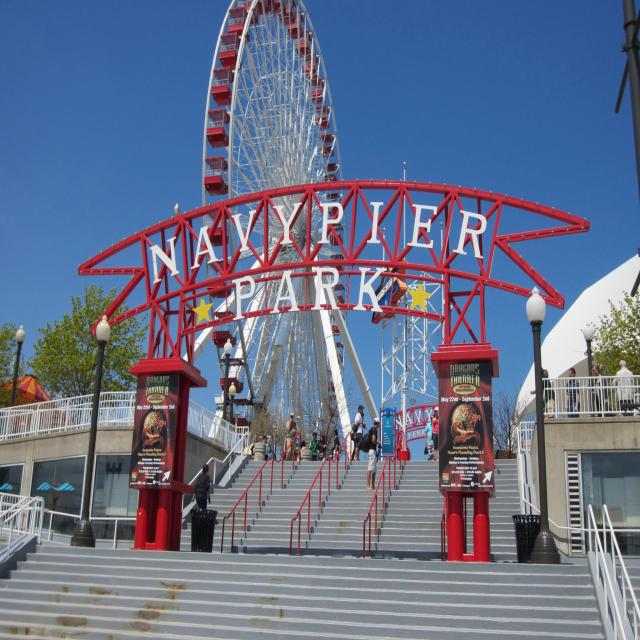body: (611, 359, 636, 417), (591, 364, 614, 418), (367, 417, 382, 491), (529, 367, 555, 408), (192, 464, 211, 511), (349, 412, 365, 462), (284, 411, 298, 466), (353, 405, 366, 462), (566, 367, 580, 418), (424, 414, 434, 461), (330, 428, 340, 462), (259, 435, 272, 461), (283, 431, 293, 463), (317, 434, 328, 462), (310, 431, 318, 461), (431, 406, 439, 430), (250, 438, 258, 458), (116, 510, 124, 530), (490, 422, 496, 448), (296, 440, 308, 450), (267, 446, 273, 462), (542, 364, 548, 378), (422, 457, 430, 462)
